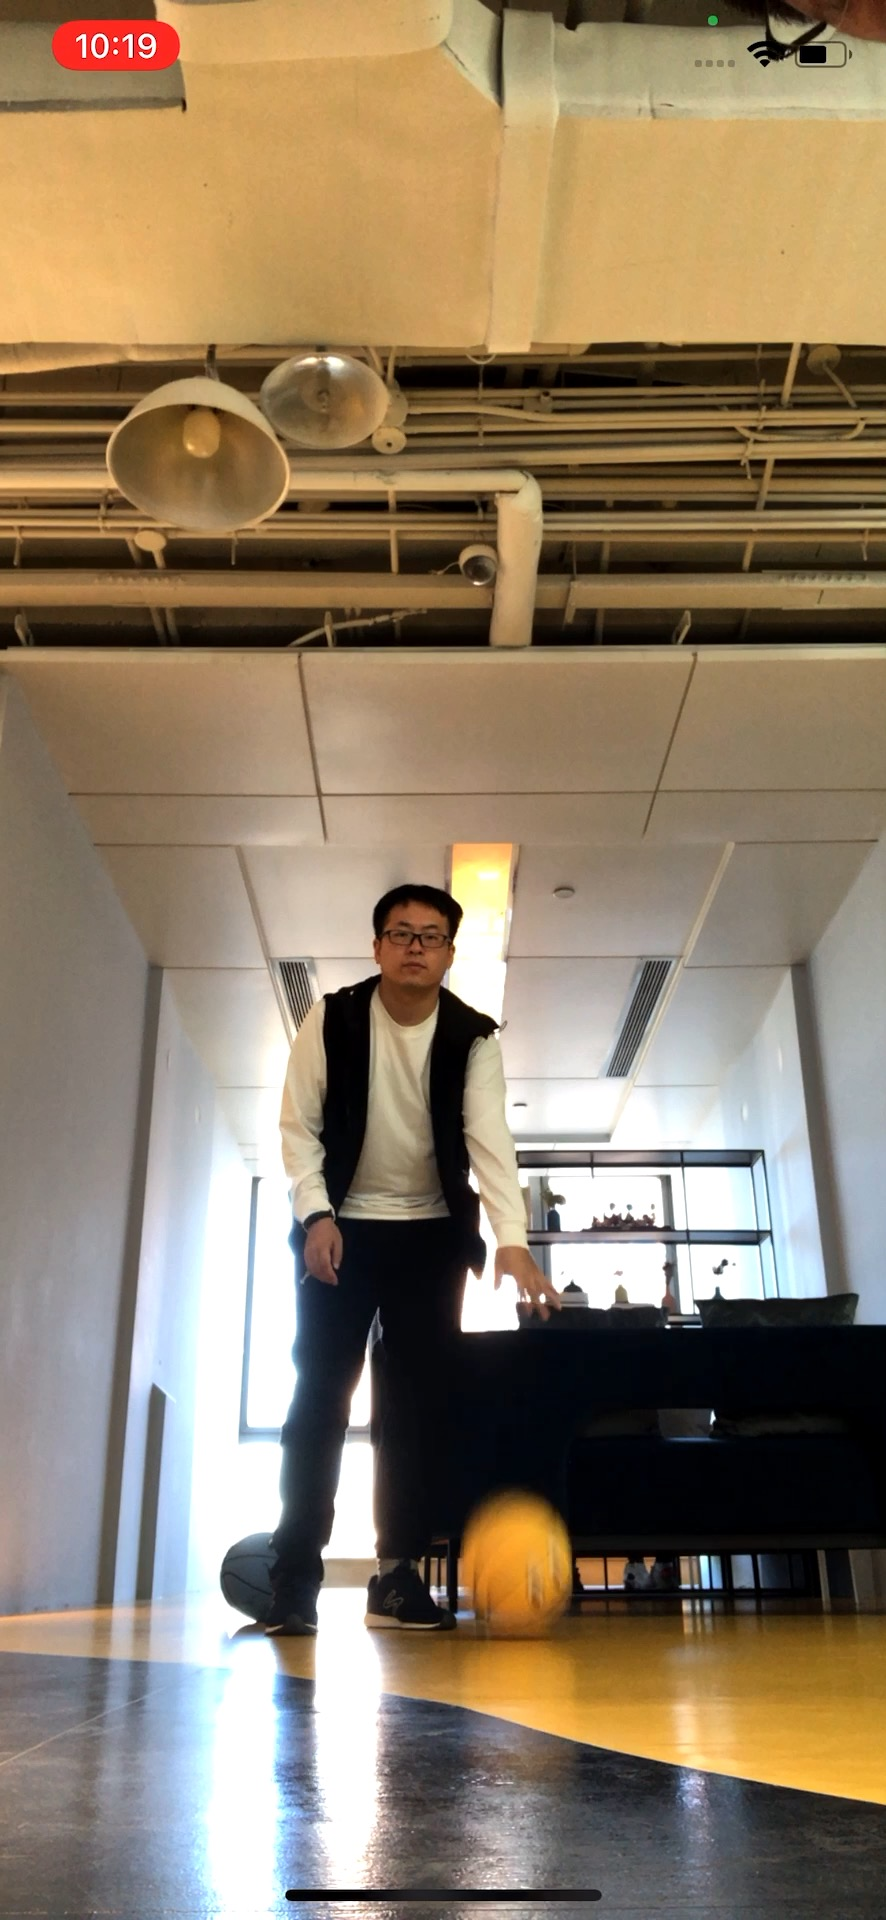ball: (459, 1494, 574, 1640), (221, 1533, 286, 1629)
